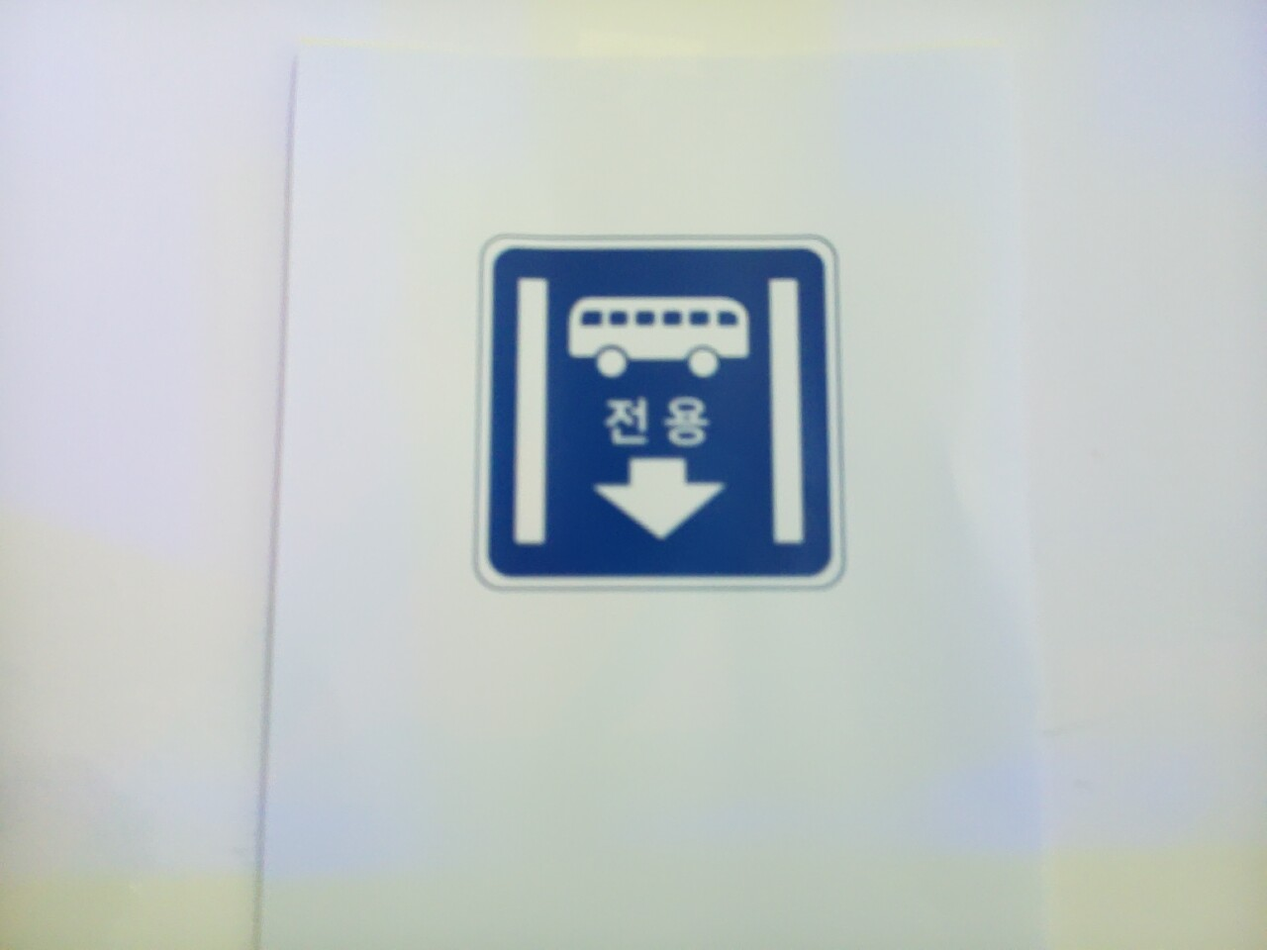bus_only_lane: (477, 238, 842, 587)
